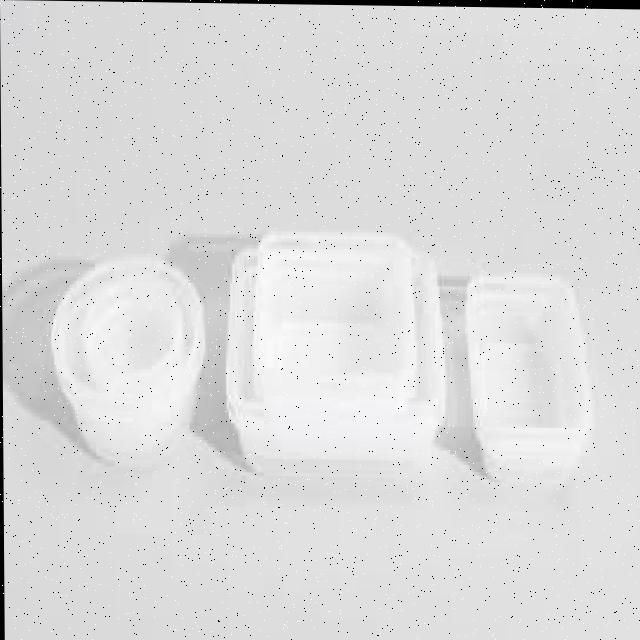disposable: (207, 198, 462, 527), (52, 219, 218, 499), (460, 244, 601, 508)
